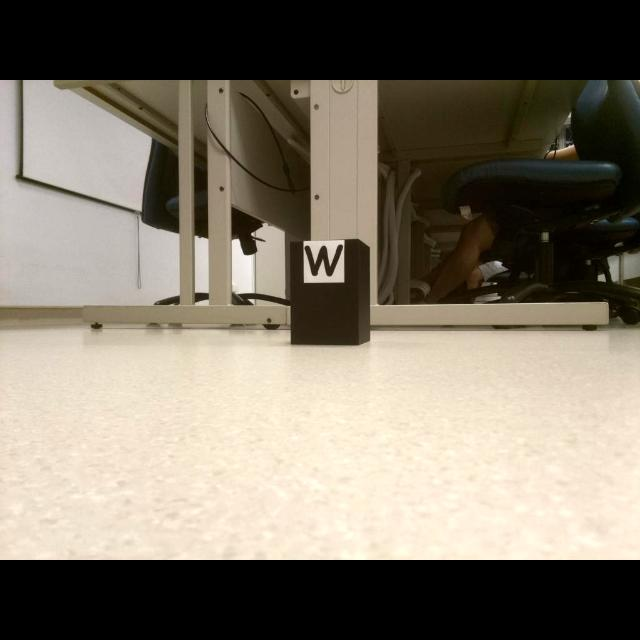W: (304, 244, 344, 277)
